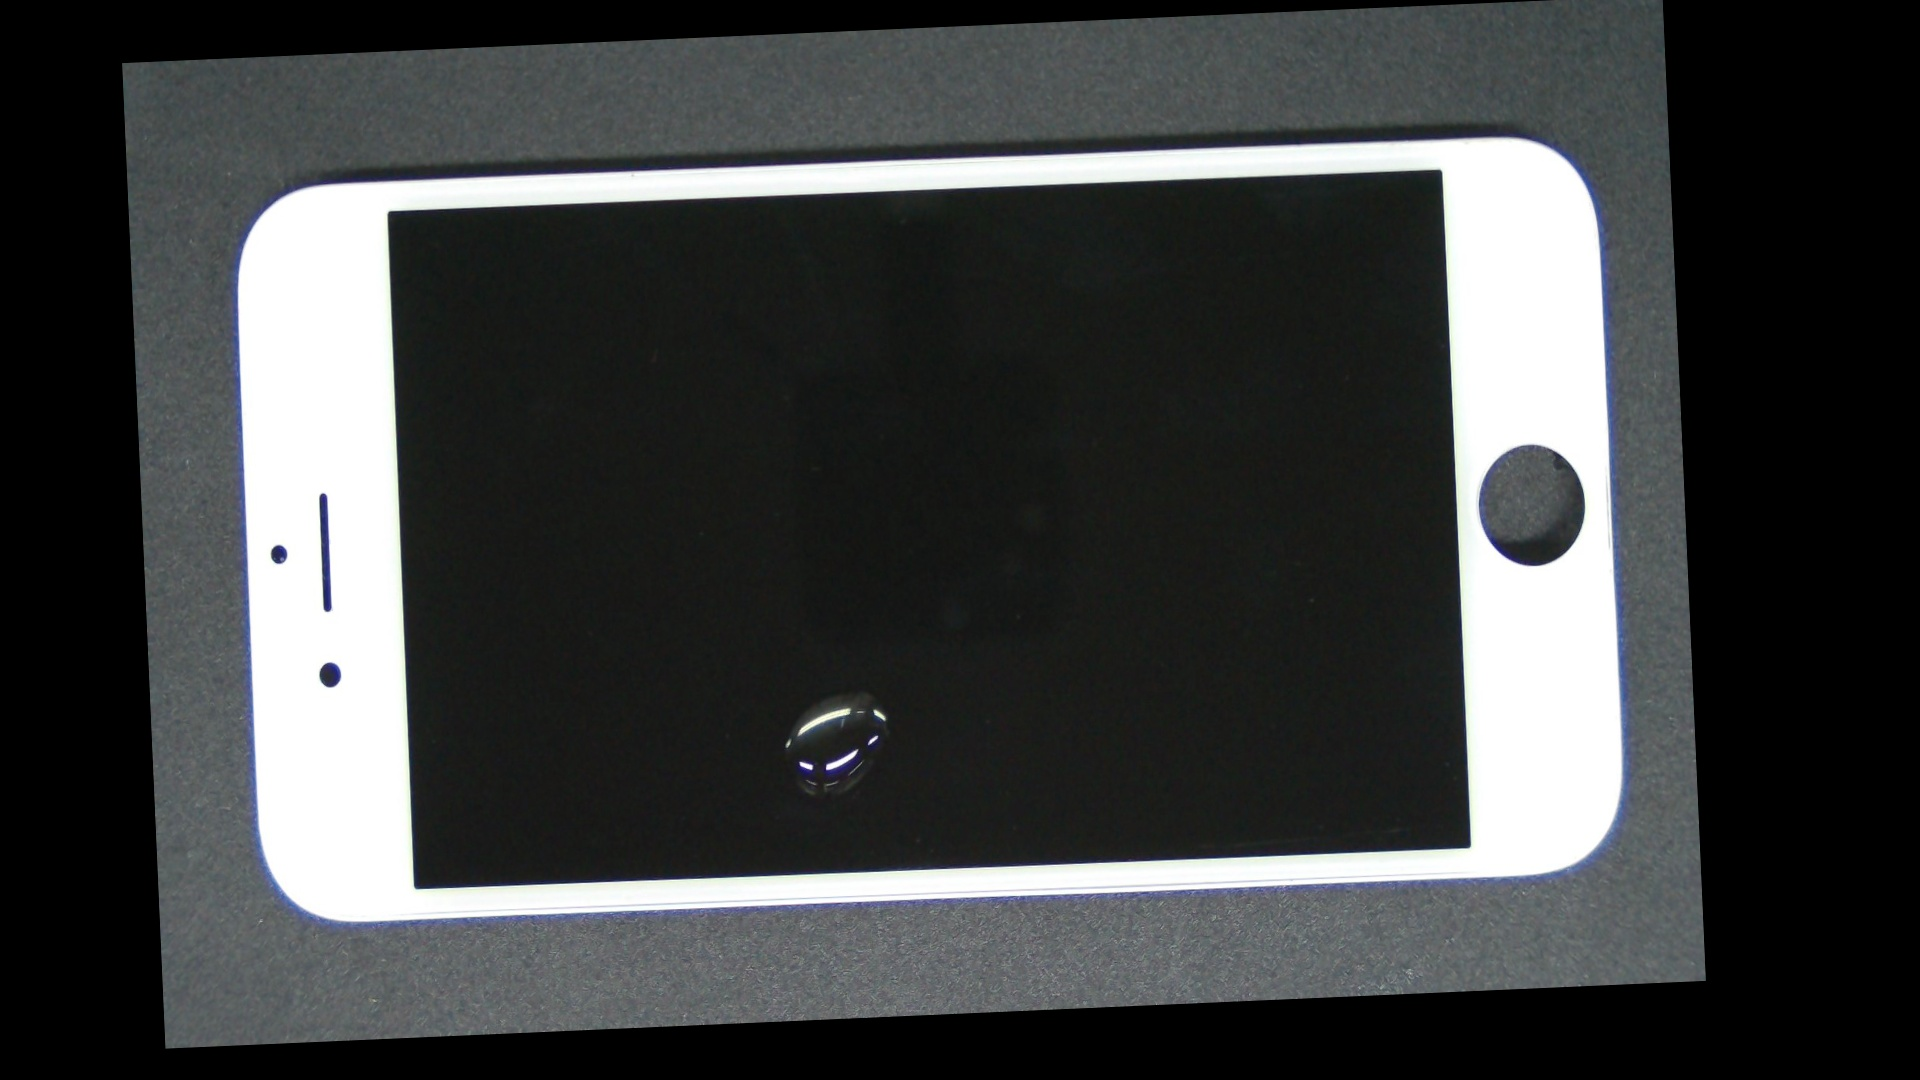oil: (497, 345, 1245, 1033)
